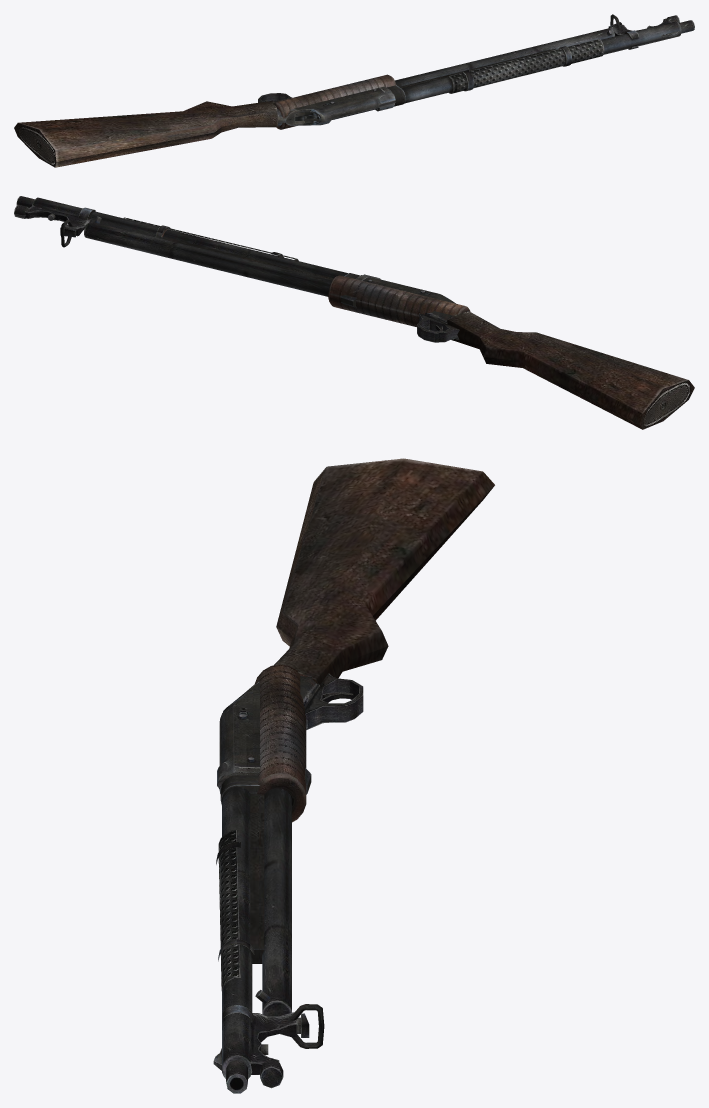
File: viewmodel_trenchgun.glb
The picture shows the model from 3 angles, top to bottom: view 1: azimuth 30°, elevation 25°; view 2: azimuth 150°, elevation 25°; view 3: azimuth 270°, elevation 25°; orthographic projection. The views are drawn at different scales.
Size of the model in its own units: 51.75 by 2.31 by 10.23.
1 material, 1 textured.
